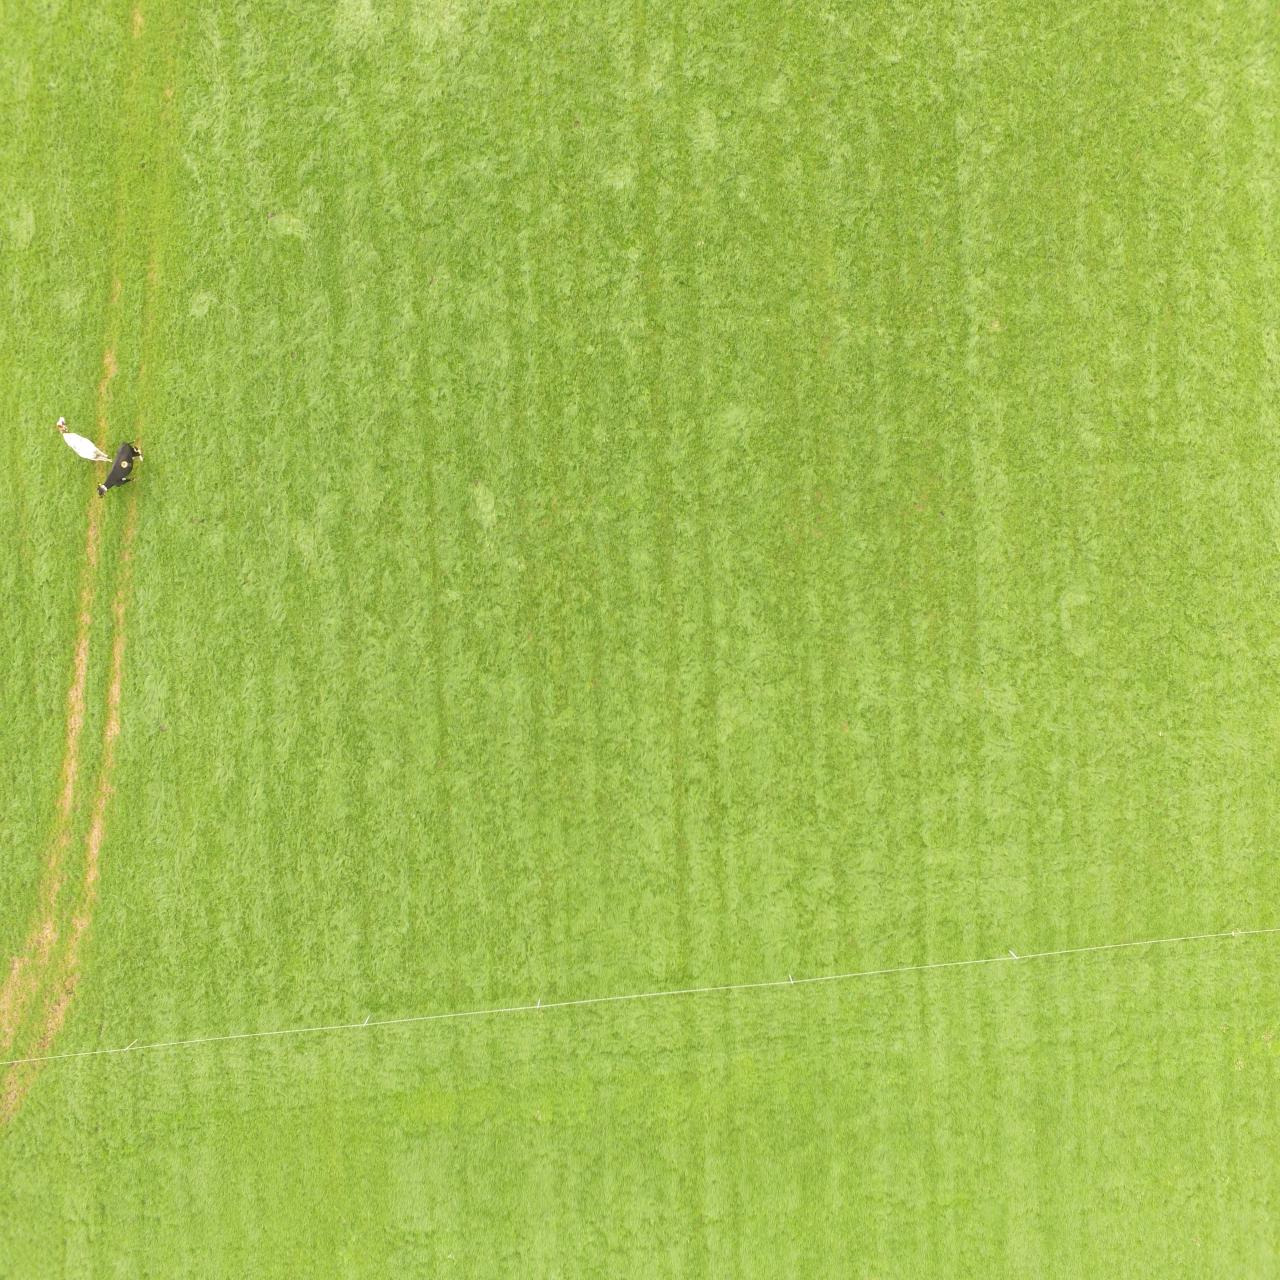cow: (55, 416, 114, 462), (97, 440, 143, 498)
